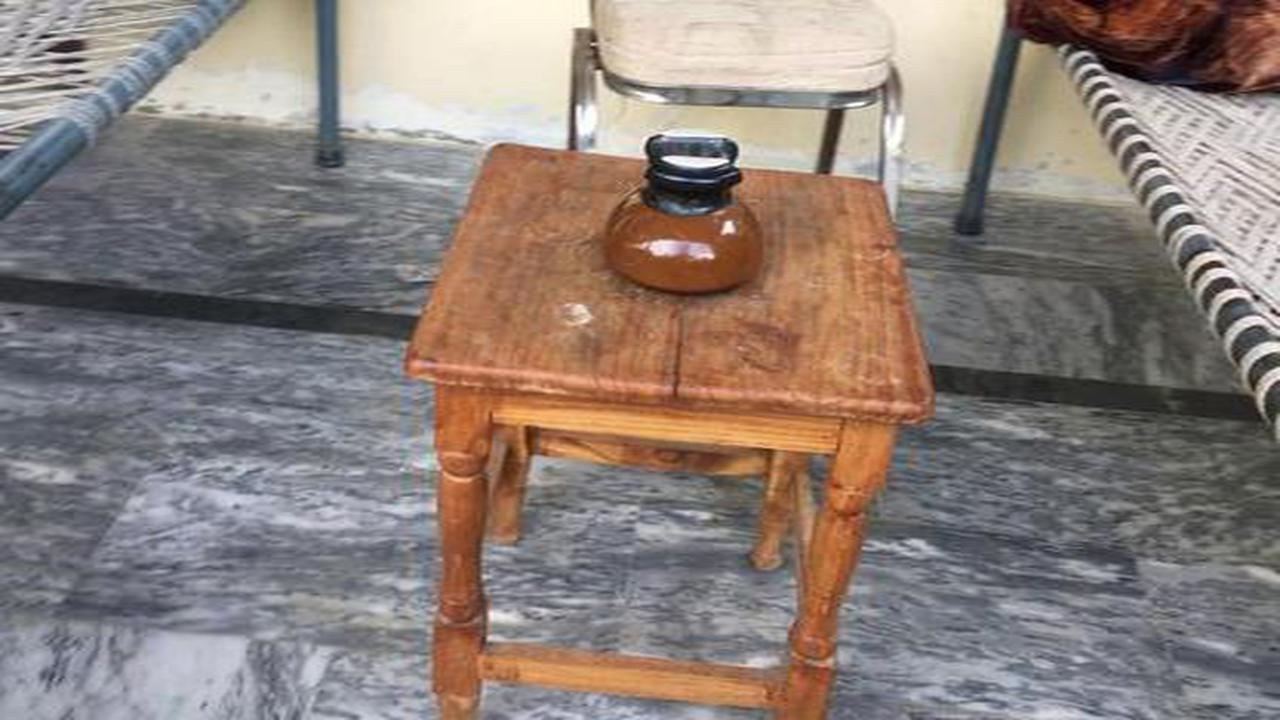insulator_pin: (576, 118, 794, 302)
